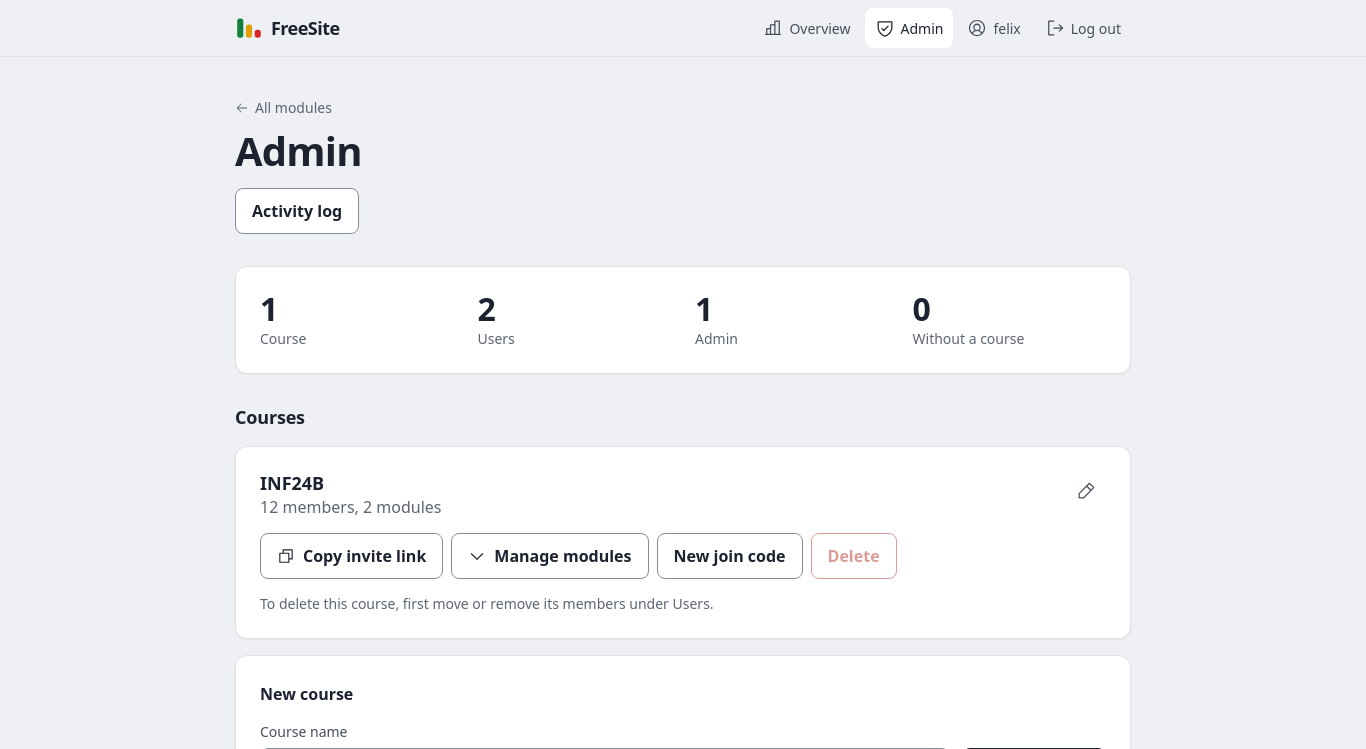
Scenario: AdminPage › shows the link when the clipboard is not available
The width and height of the screenshot is (1366, 749).
Step 1. Click the button "Copy invite link" → coordinates (352, 556), box left=260, top=533, right=443, bottom=579
(page scrolled)
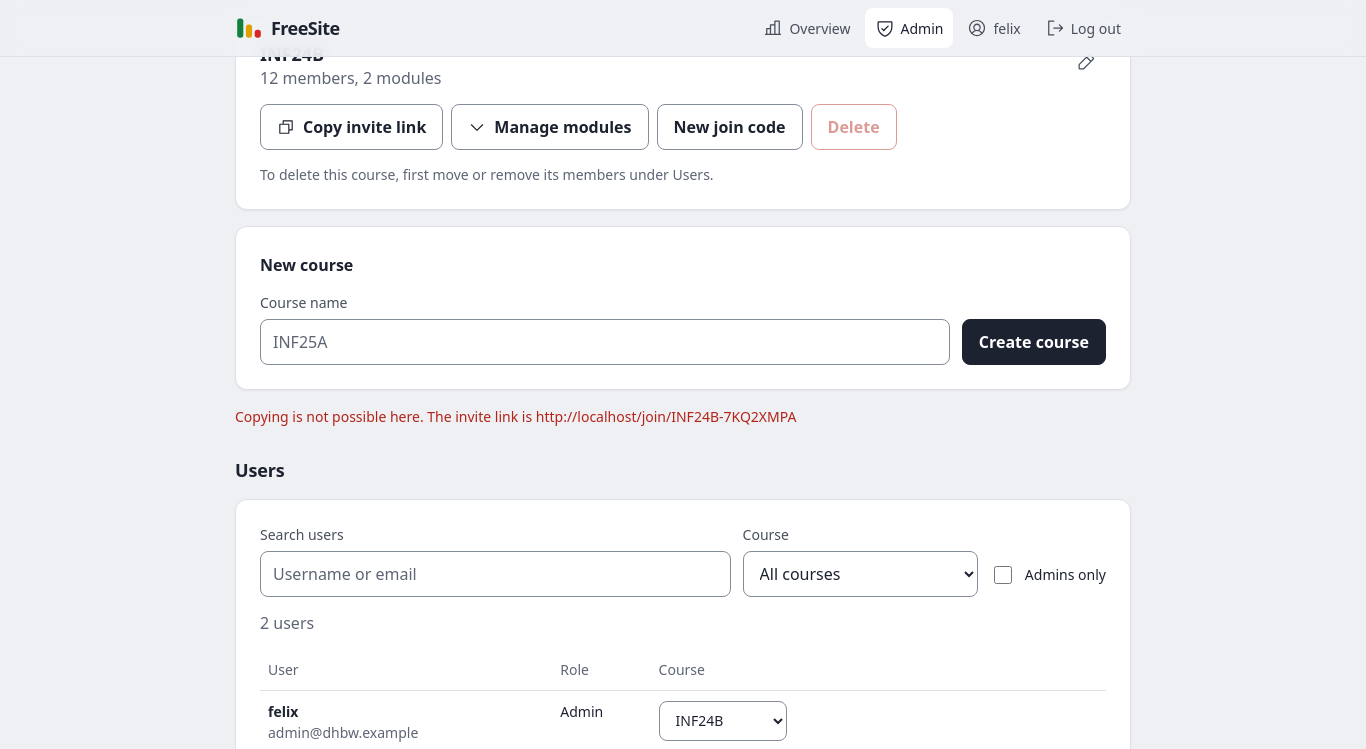
Check: the 1st message shows "/join/INF24B-7KQ2XMPA", box left=235, top=408, right=796, bottom=426
